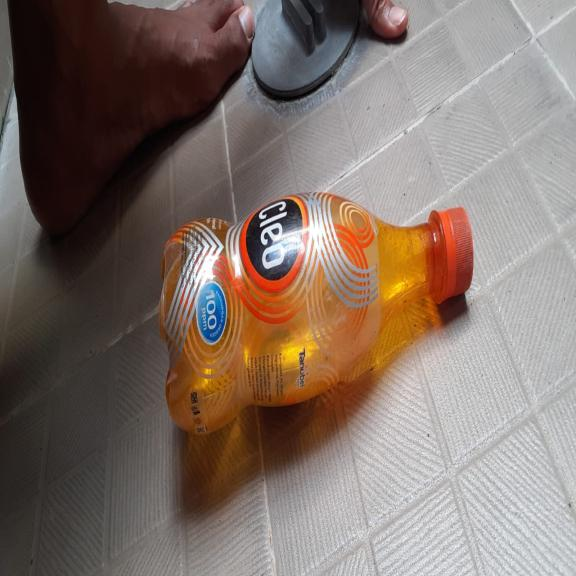Plastik: (154, 198, 475, 434)
